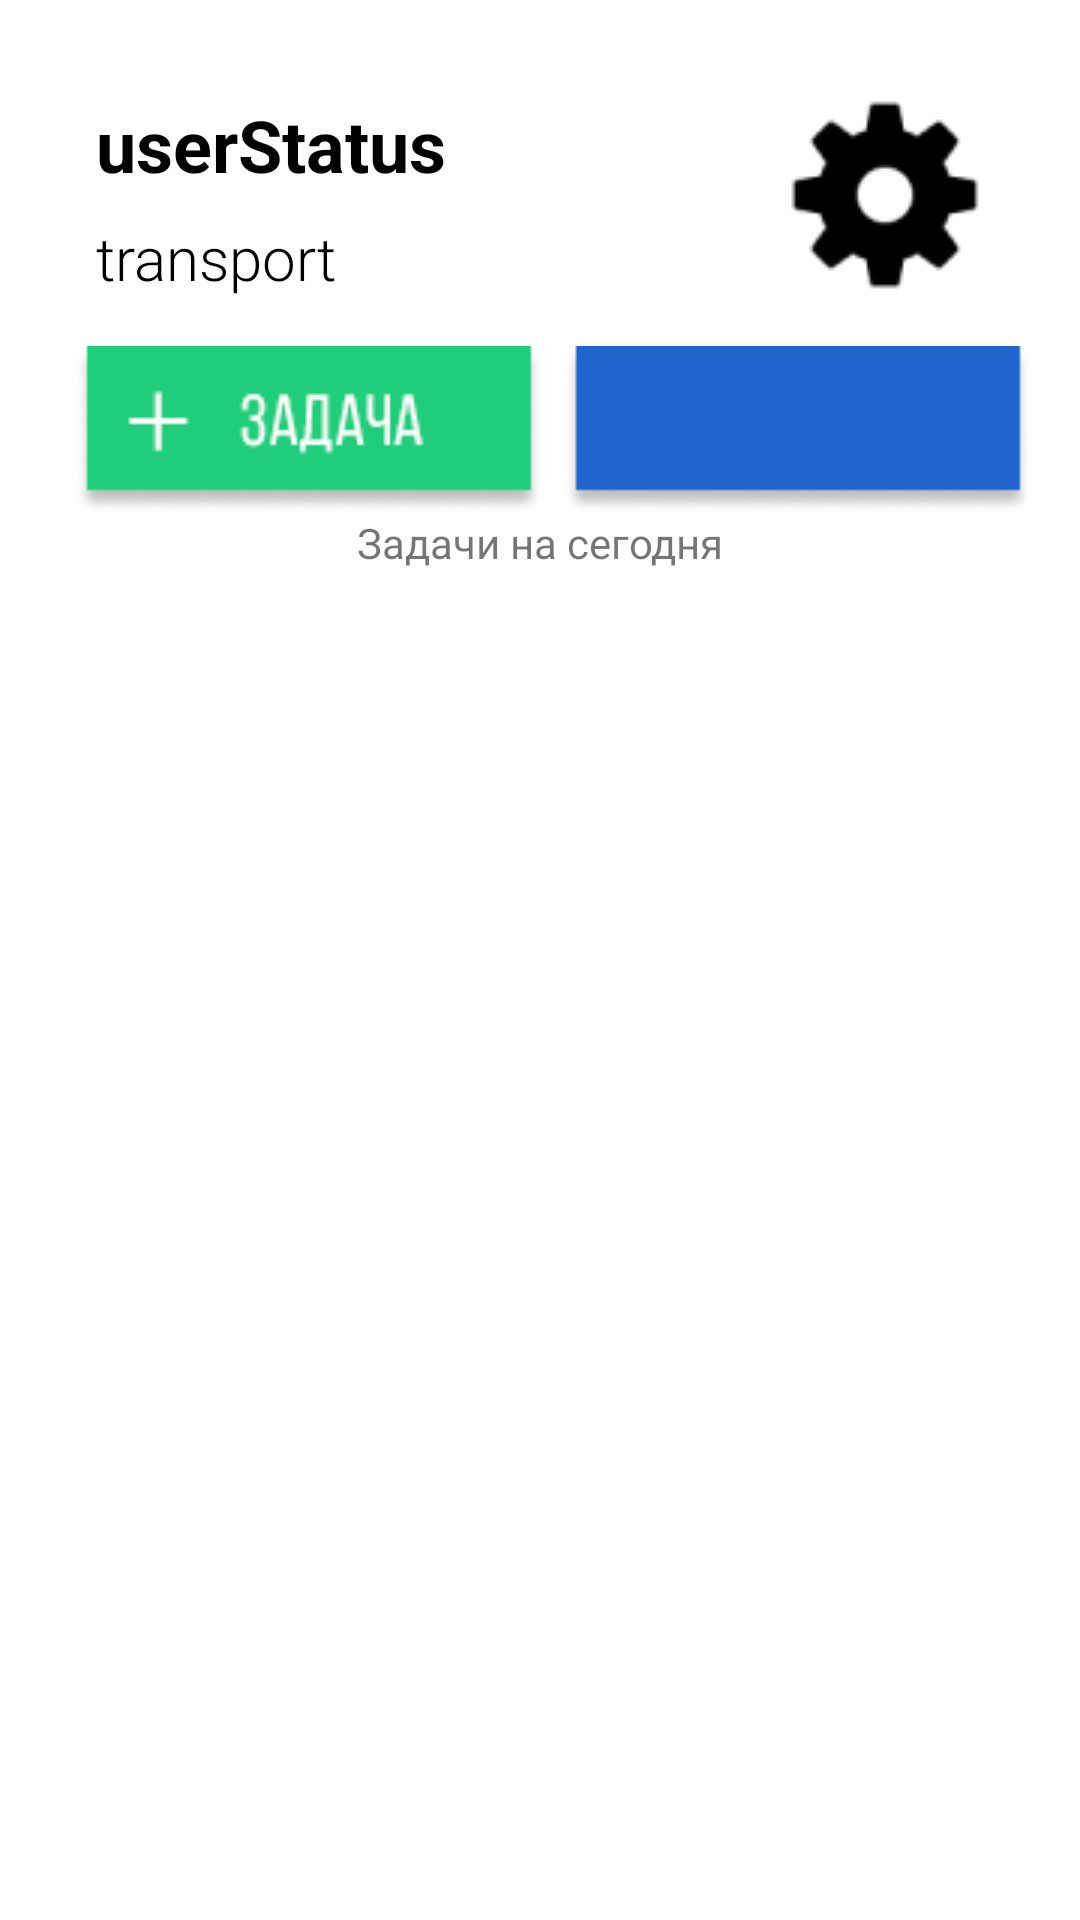

Icon click points for this 1080×1920 phone screenshot, format [x,y]:
settingbtnimage: [885,195]
